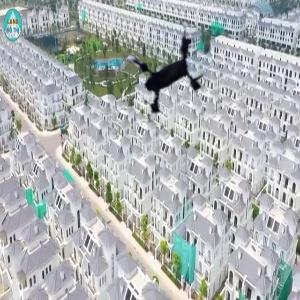drone: (98, 7, 224, 133)
